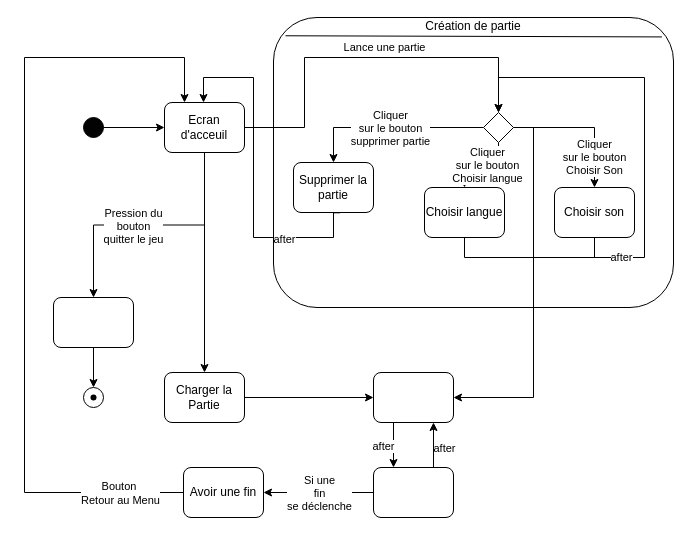
This 691x535 diagram has some shape labels left out. Each missing label, with the centre of its shape:
Faire un choix: the point at 413,492
Histoire: the point at 413,397
Quitter le jeu: the point at 93,322
